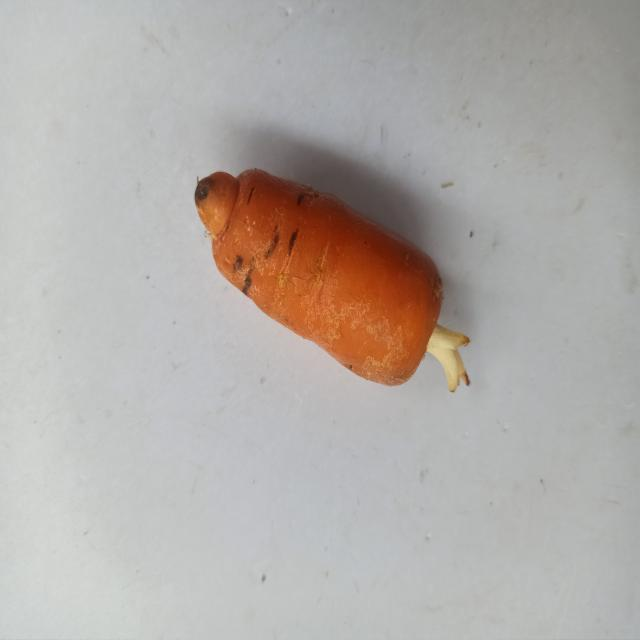Carrot: (175, 139, 474, 443)
